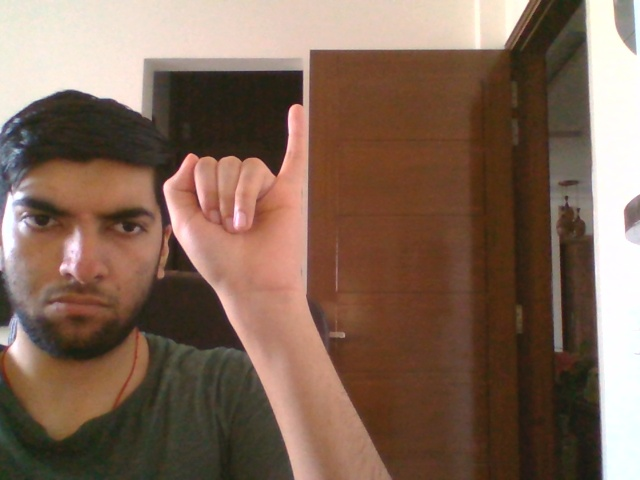LetterI: (162, 104, 307, 297)
